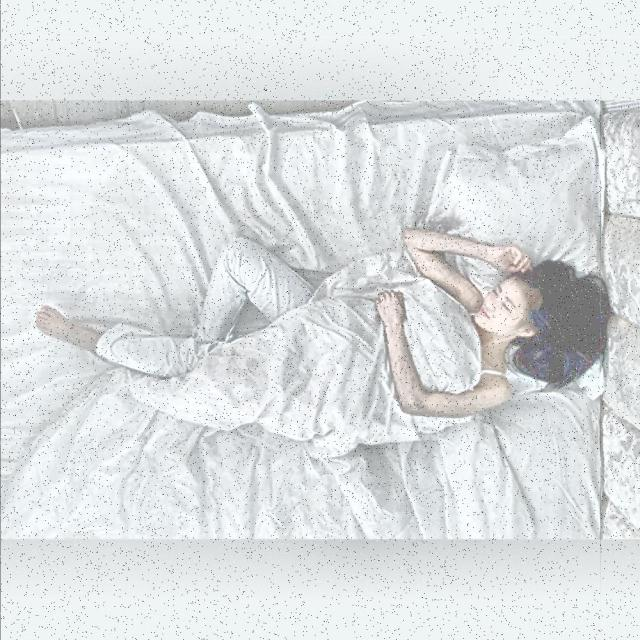Supine: (38, 229, 611, 454)
